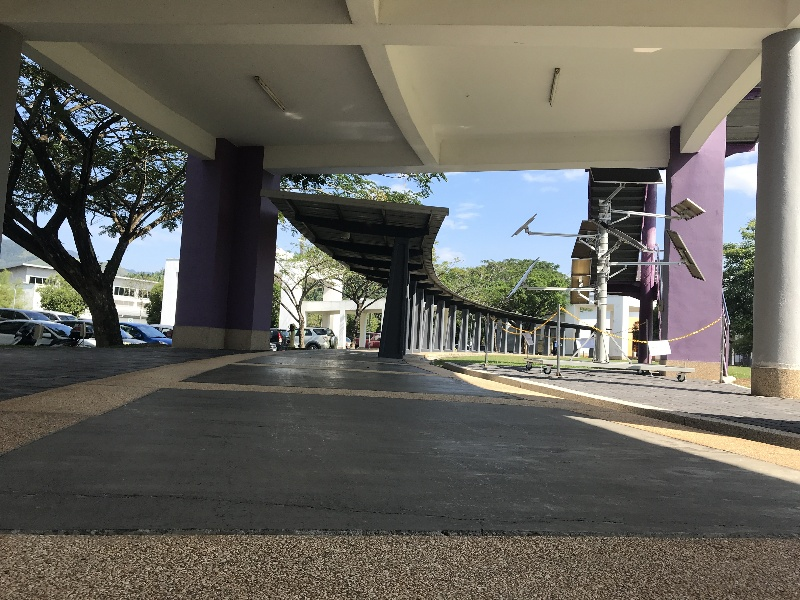pillar: (164, 124, 280, 367), (742, 22, 800, 411), (657, 114, 726, 389), (378, 225, 403, 363)
